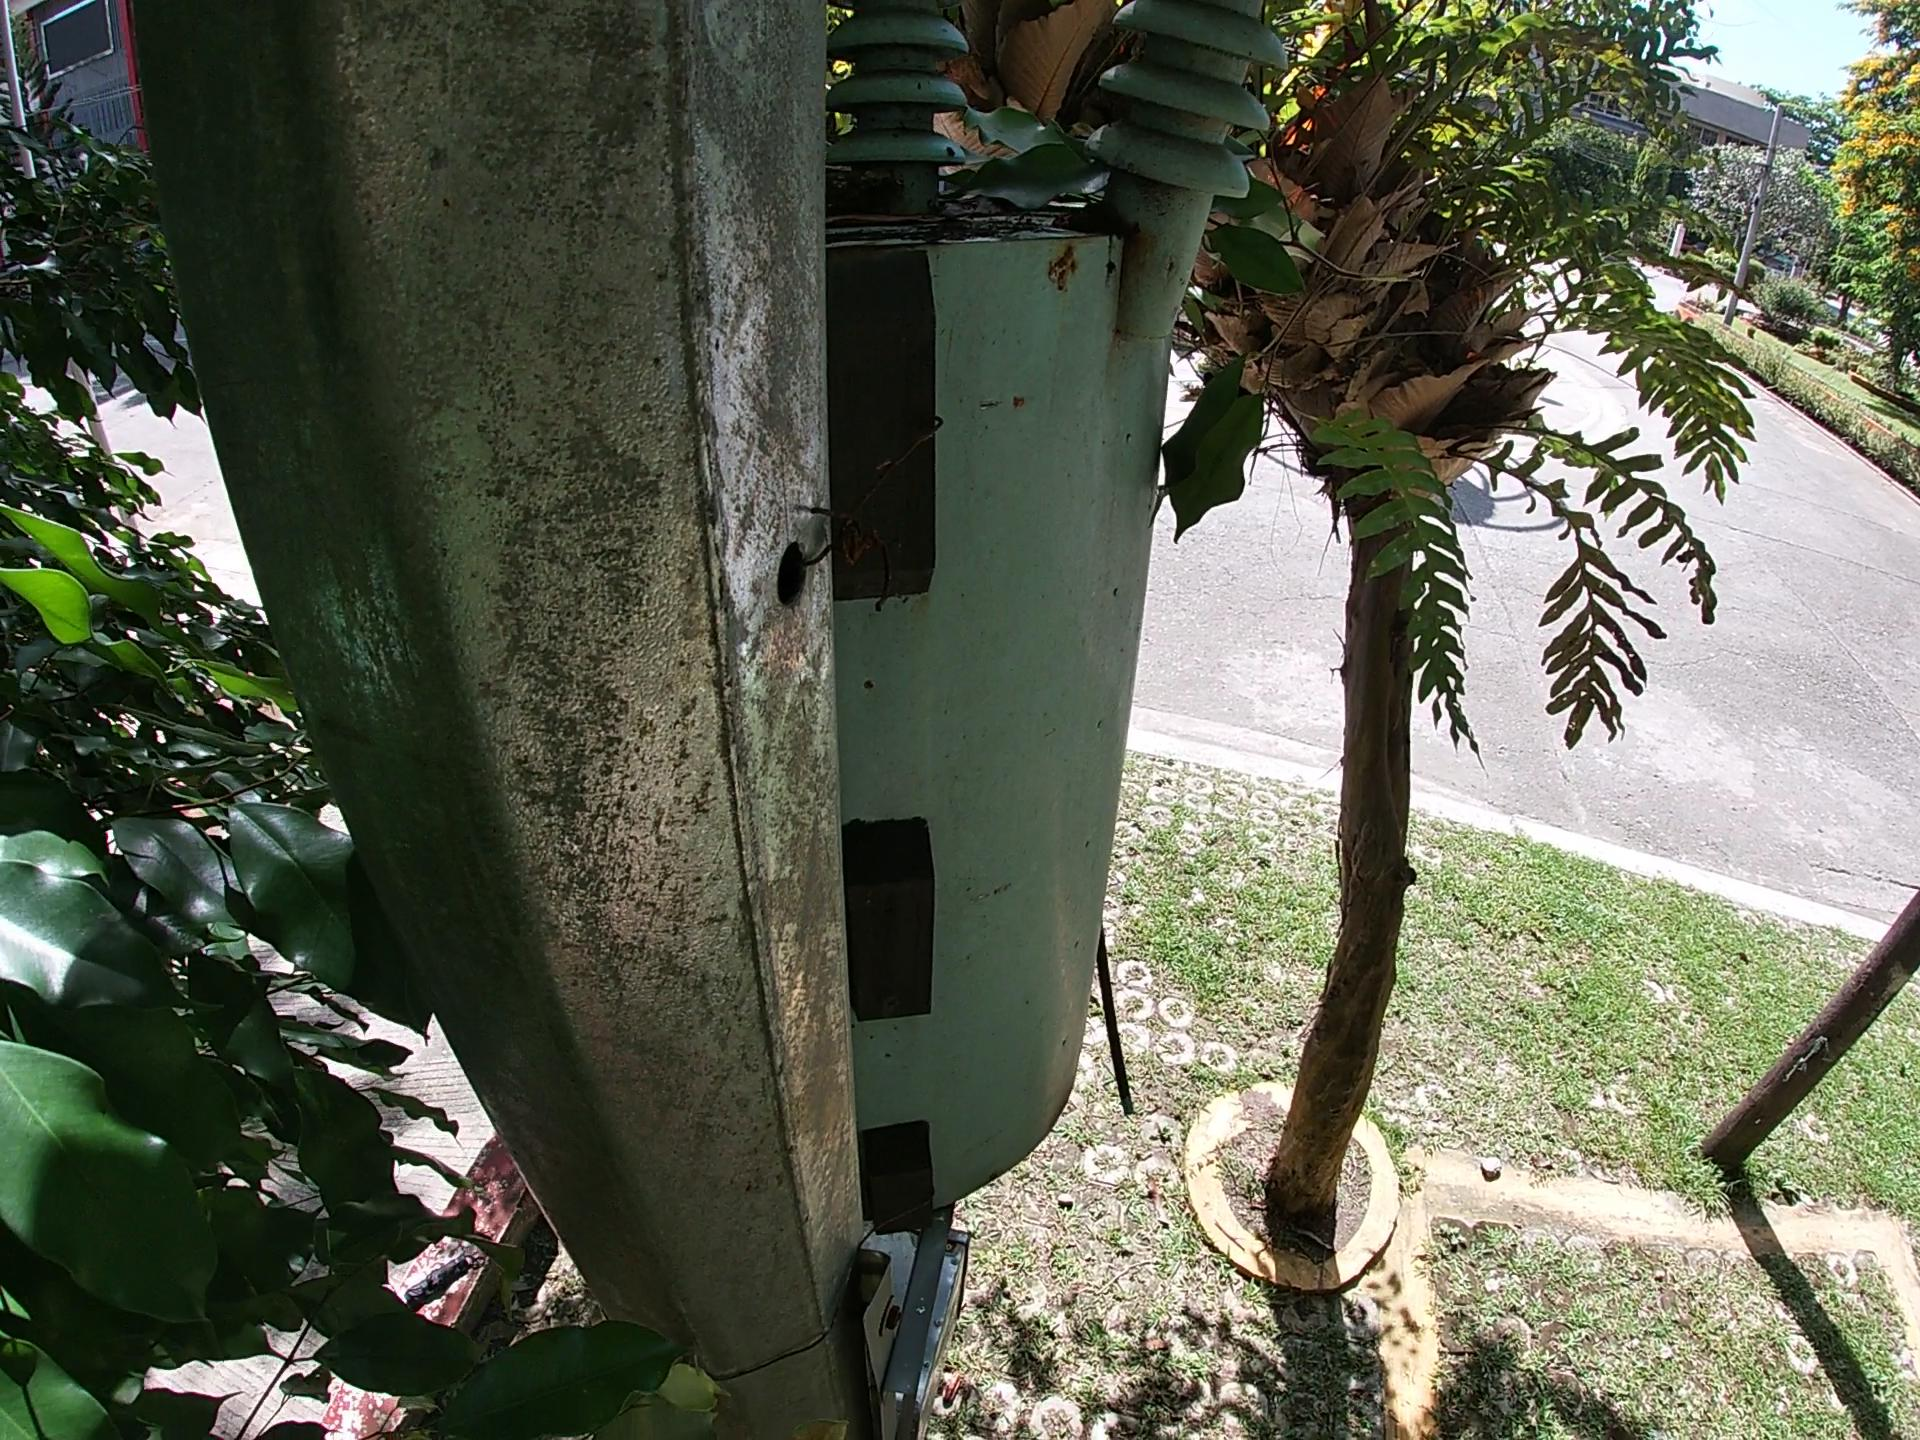branch with leaves: (1157, 101, 1401, 604)
leaf: (942, 71, 1105, 216), (821, 206, 927, 230)
tree branch: (813, 172, 918, 198)
